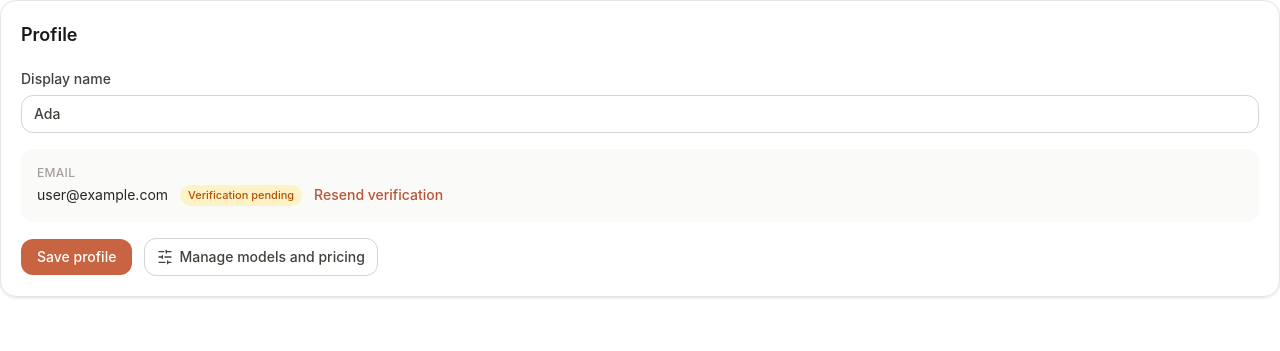
Test: ProfileForm › loads an unverified profile, clears the name, and resends verification
The width and height of the screenshot is (1280, 351).
Clear the field labelled "Display name" at (640, 114), box left=21, top=95, right=1259, bottom=133
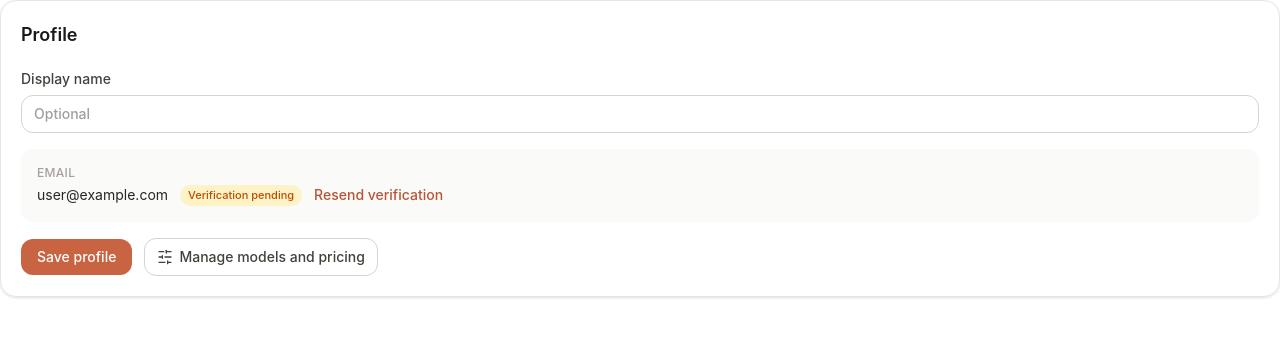
Click the button "Save profile" at (77, 256), box left=21, top=238, right=132, bottom=274
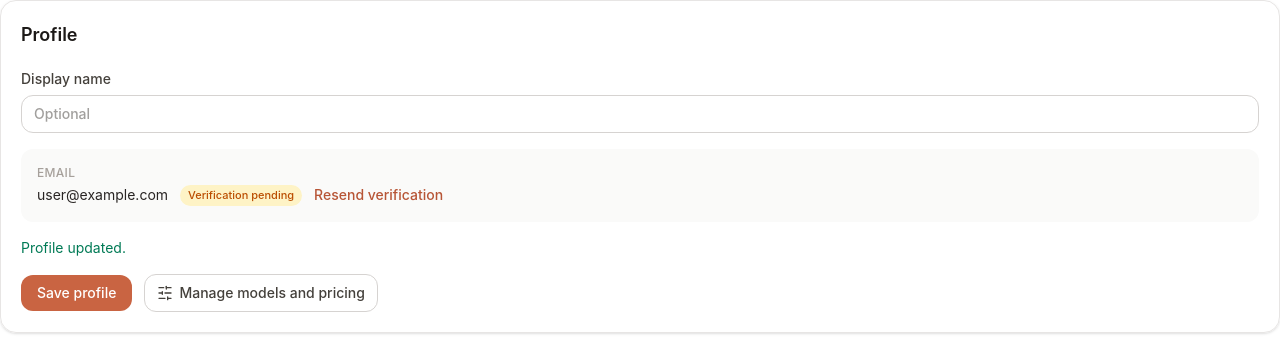
Click the button "Resend verification" at (379, 195), box left=314, top=185, right=443, bottom=205
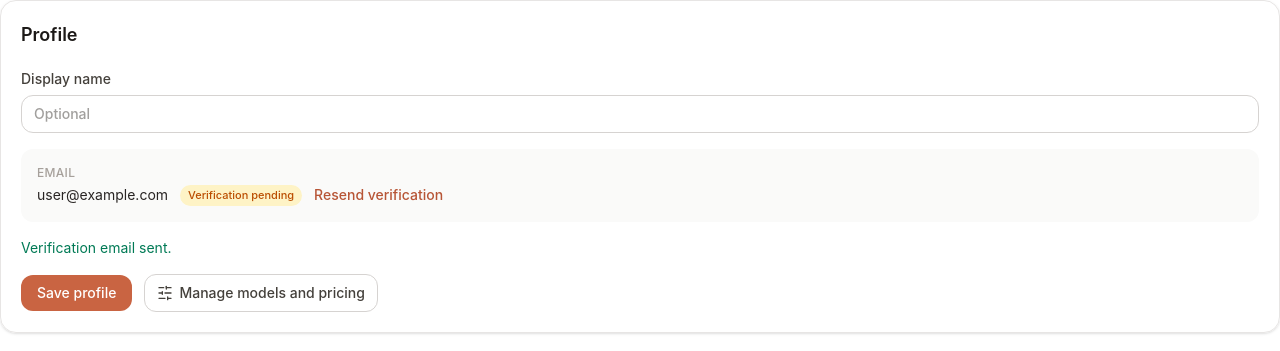
Check: the text "Verification email sent." is shown, box left=21, top=238, right=172, bottom=256
